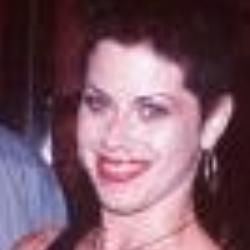face: (31, 8, 244, 242)
